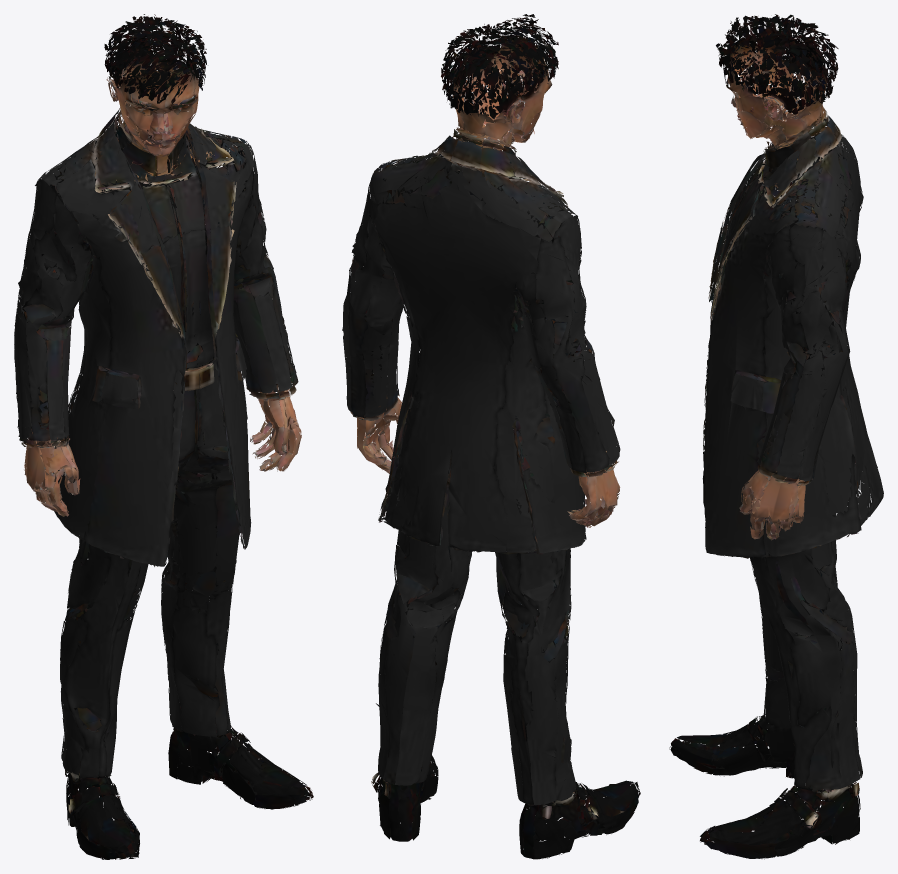
The model's file is zoth-guy.glb.
3 renders of one model, left to right at view 1: azimuth 30°, elevation 25°; view 2: azimuth 150°, elevation 25°; view 3: azimuth 270°, elevation 25°, orthographic. The views are drawn at different scales.
Visible parts, largest first — view 1: Mesh_0; view 2: Mesh_0; view 3: Mesh_0.
Boxes of the visible parts, box(x1,y1,x2,y2) form: Mesh_0: box(14, 14, 313, 859); Mesh_0: box(342, 14, 640, 859); Mesh_0: box(669, 14, 883, 859).
Bounding box in the file's own units: 0.3529 × 1 × 0.2487.
1 material, 1 textured.
